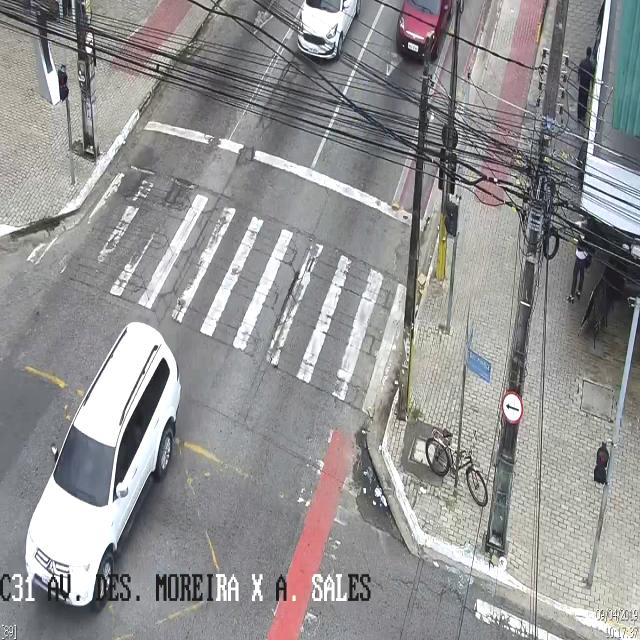Car: (24, 322, 180, 606), (388, 0, 476, 63), (297, 0, 361, 60)
